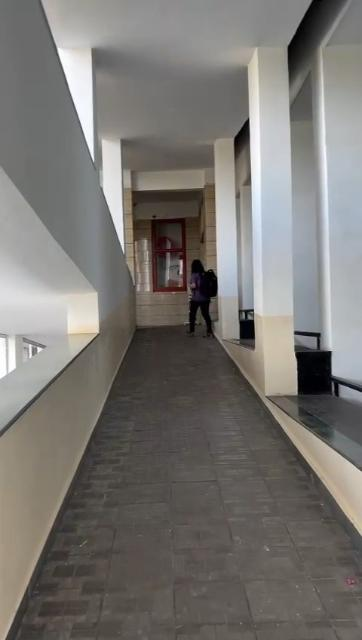floor: (8, 324, 362, 640)
moving-obj: (179, 257, 222, 341)
wall: (244, 41, 294, 395), (311, 45, 362, 320), (104, 142, 136, 334), (219, 144, 241, 338), (134, 220, 152, 322), (150, 294, 186, 320), (184, 221, 199, 255)
